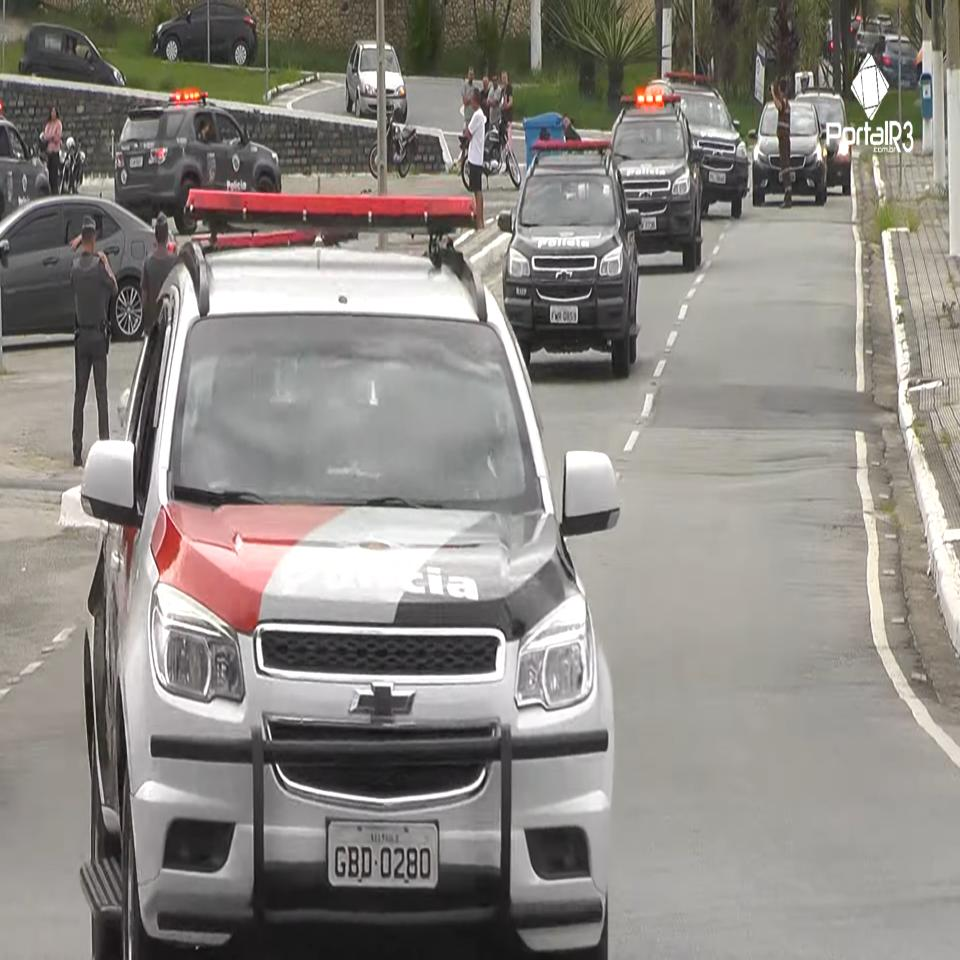viatura: (121, 195, 626, 960), (497, 130, 642, 374)
